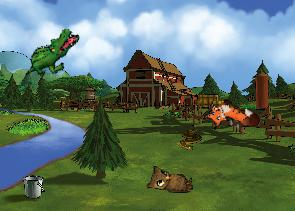crocodile: (23, 19, 81, 88)
fox: (200, 91, 262, 146)
owl: (146, 164, 193, 193)
